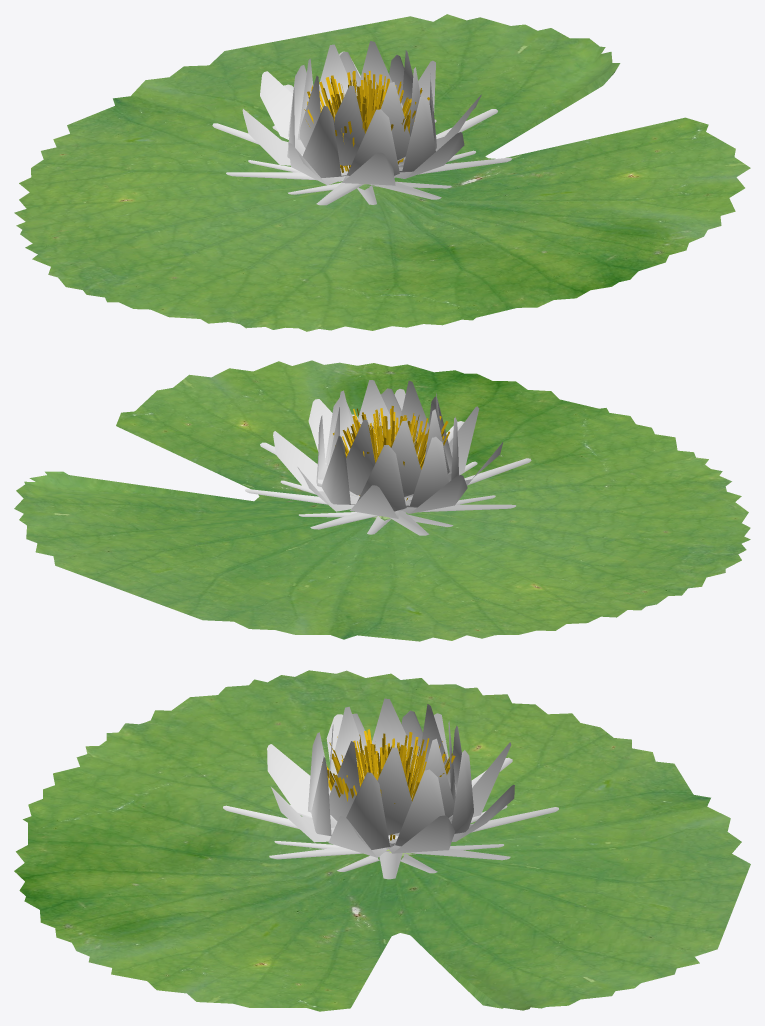
Rendered from lotus.glb.
3 renders of one model, top to bottom at view 1: azimuth 30°, elevation 25°; view 2: azimuth 150°, elevation 25°; view 3: azimuth 270°, elevation 25°, orthographic. The views are drawn at different scales.
Visible parts, largest first — view 1: lotus_flower.001; view 2: lotus_flower.001; view 3: lotus_flower.001.
Boxes of the visible parts, x1,y1,x2,y2 form: lotus_flower.001: [14, 14, 750, 331]; lotus_flower.001: [14, 360, 750, 641]; lotus_flower.001: [14, 670, 750, 1011].
Bounding box in the file's own units: 0.4847 × 0.0941 × 0.4411.
Materials: 3 (1 with a texture image).
